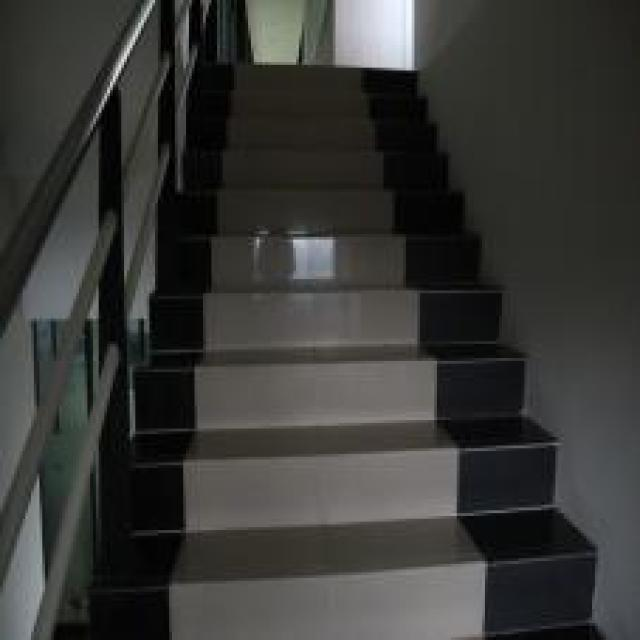upstair: (204, 108, 438, 449)
